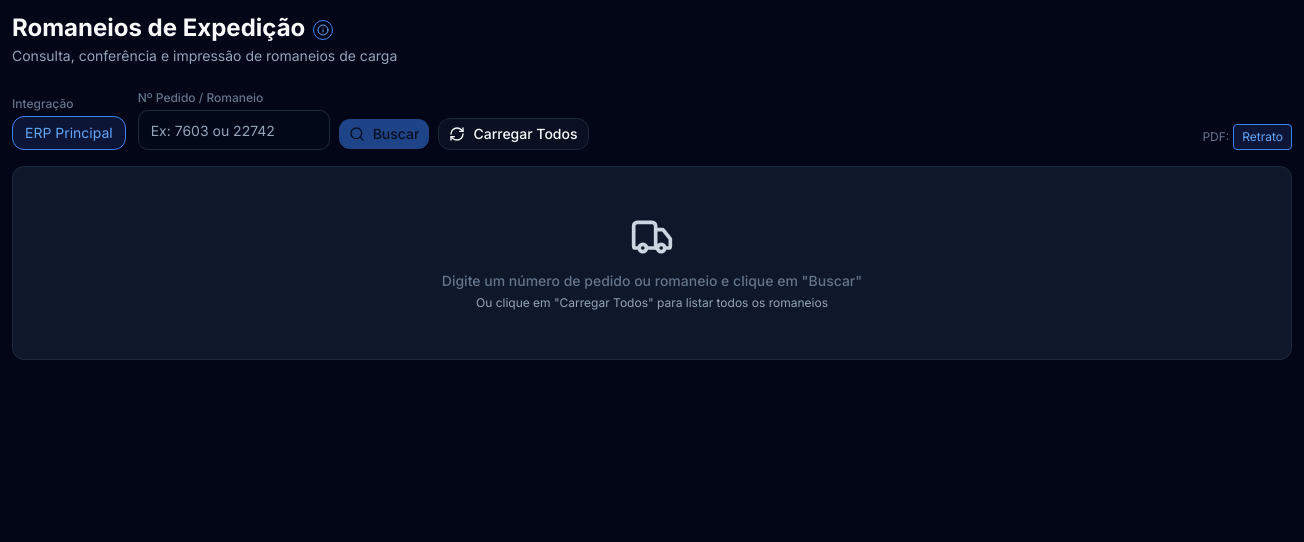
RomaneiosPage › carrega os romaneios ao clicar em Carregar Todos
This screenshot has width=1304, height=542.
Expected: the button "ERP Principal" is shown, [12,116,126,150]
Click the button "Carregar Todos" at coordinates (513, 134), box [438,118,588,150]
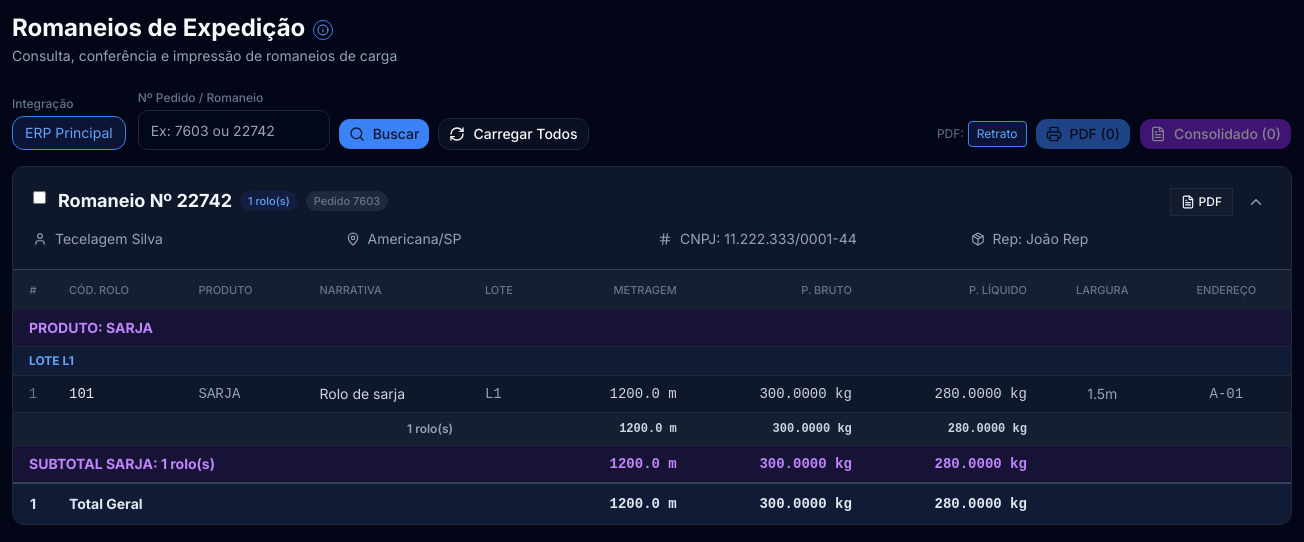
Result: the heading "Romaneio Nº 22742" is shown at [58,187,232,215]
Result: the text "Tecelagem Silva" is shown at [55,229,163,249]
Result: the text "1 rolo(s)" is shown at [240,191,298,211]
